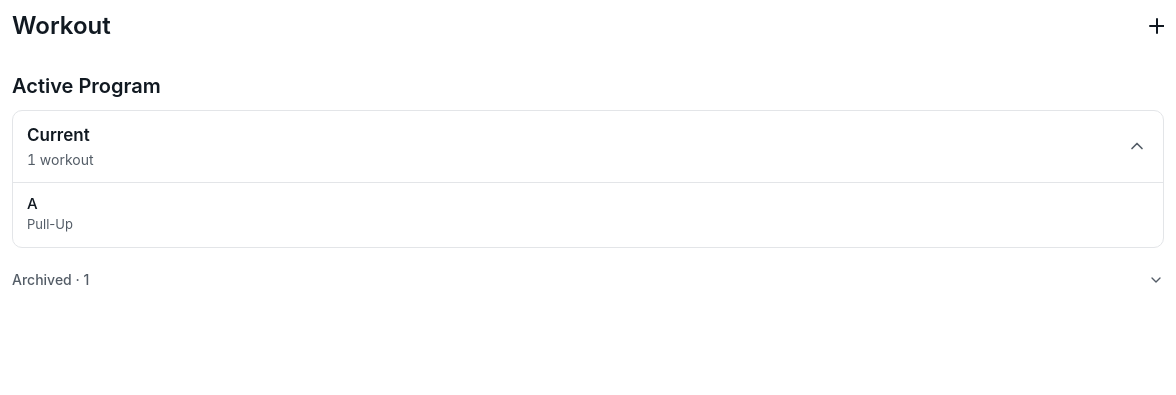
Test case: WorkoutPage › reveals archived programs through the disclosure
The width and height of the screenshot is (1176, 395).
Expected: the link "Old plan" is not shown
Click the button "Archived · 1" at x=48, y=279, box [12,258,1164,302]
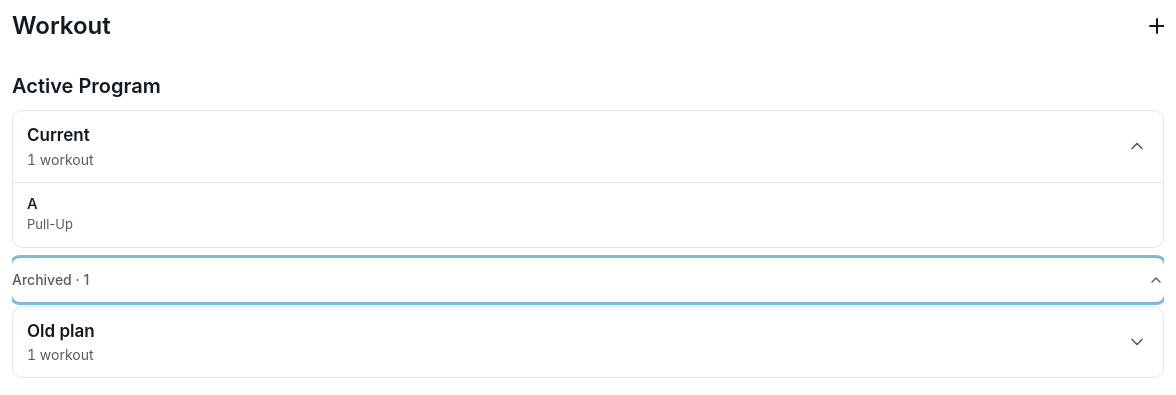
Expected: the link "Old plan 1 workout" is shown, [27,320,95,363]
